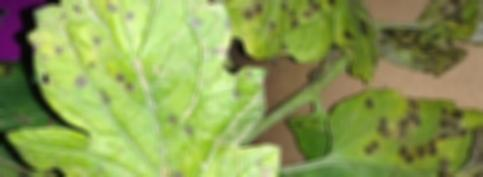Tomato Septoria leaf spot: (5, 0, 283, 177), (290, 86, 483, 177), (375, 0, 483, 93)
